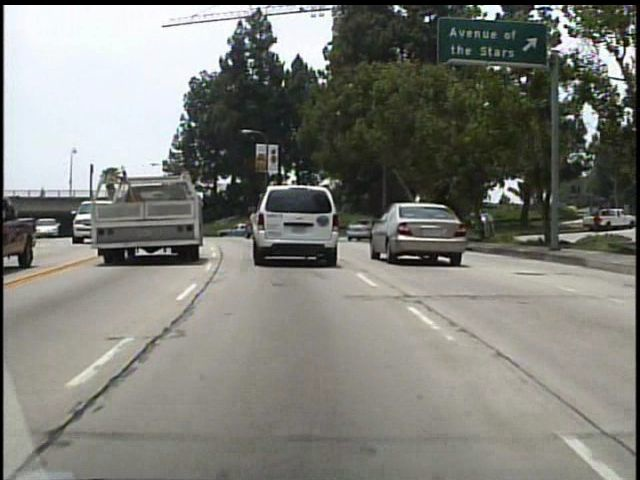person: (36, 183, 47, 203)
